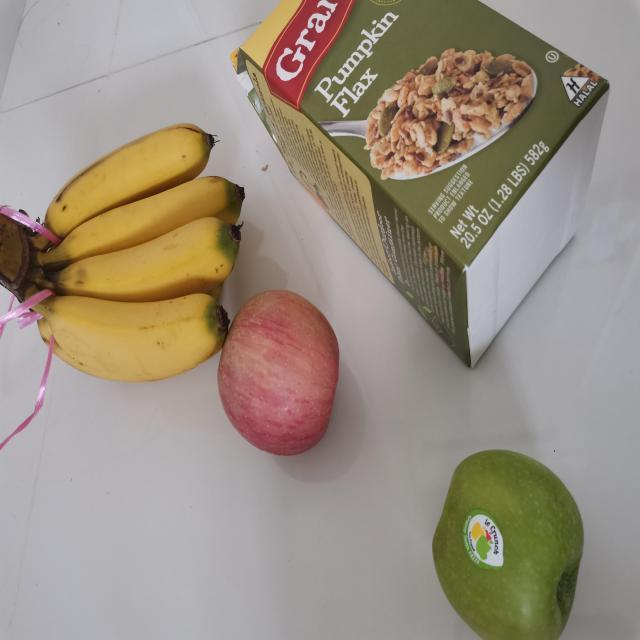Apple: (430, 449, 588, 639), (218, 288, 341, 456)
Banana: (0, 124, 242, 388)
Cerealbox: (227, 5, 613, 371)
